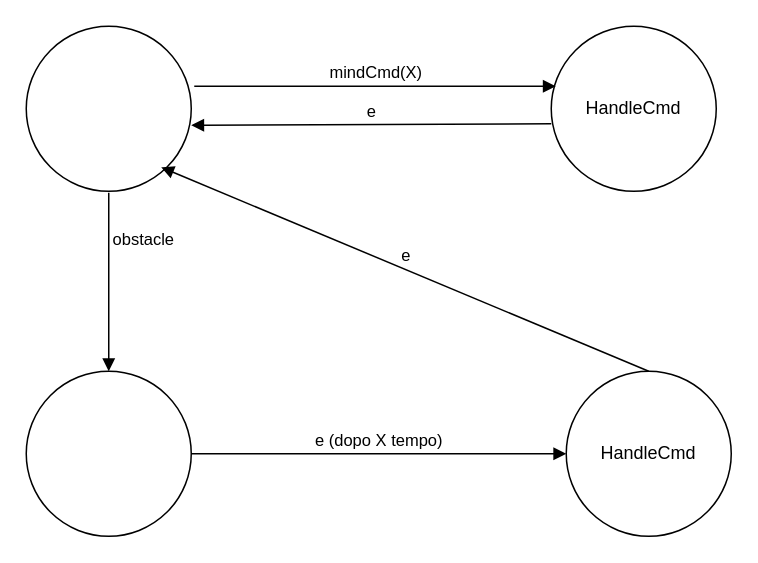
The diagram is 758 pixels wide and 563 high, and some of its shapes have lost their labels. Each missing label, with the centre of its shape:
"StartTurn" goes at (x=108, y=453).
"WaitCmd" goes at (x=108, y=108).
